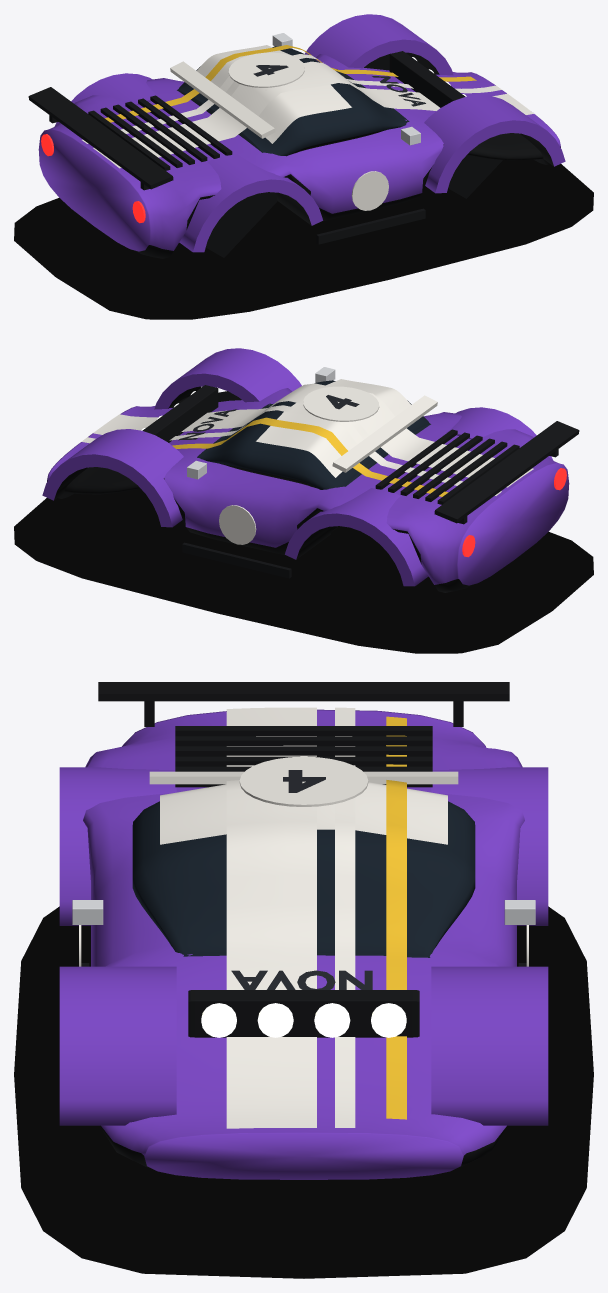
File: car-1.glb
3 renders of one model, top to bottom at view 1: azimuth 30°, elevation 25°; view 2: azimuth 150°, elevation 25°; view 3: azimuth 270°, elevation 25°, orthographic. The views are drawn at different scales.
Parts seen in each view (by area): view 1: car-1; view 2: car-1; view 3: car-1.
Part boxes in pixels (x1,y1,x2,y2): car-1: [14, 14, 593, 319]; car-1: [14, 348, 593, 653]; car-1: [14, 682, 593, 1278].
Bounding box in the file's own units: 3.8 × 1.15 × 2.28.
